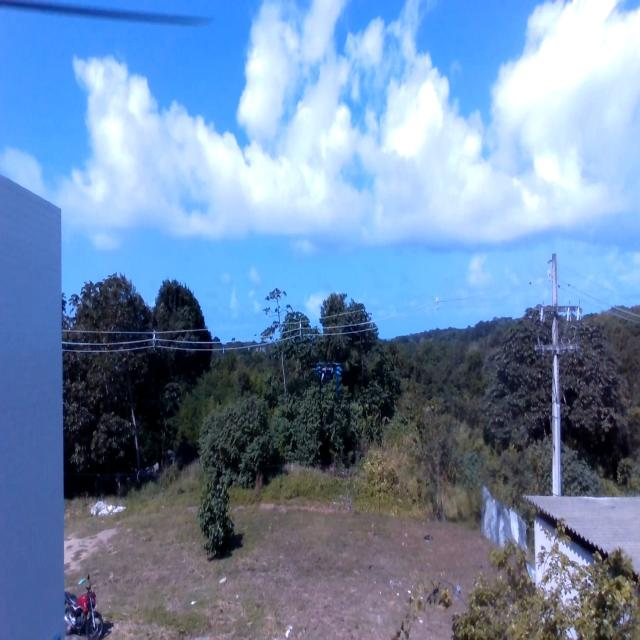-uav-: (314, 354, 344, 393)
